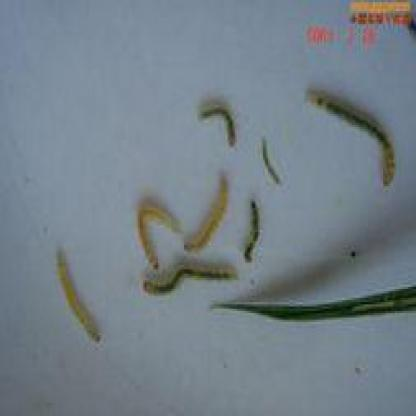leaf-folder: (299, 68, 408, 204), (50, 244, 111, 352), (186, 168, 234, 261), (119, 200, 184, 268), (199, 91, 246, 162), (132, 271, 244, 296), (237, 191, 275, 262), (254, 138, 296, 200)
